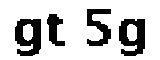5: (81, 4, 114, 48)
g: (116, 14, 153, 60), (10, 15, 43, 60)
t: (46, 10, 69, 51)
